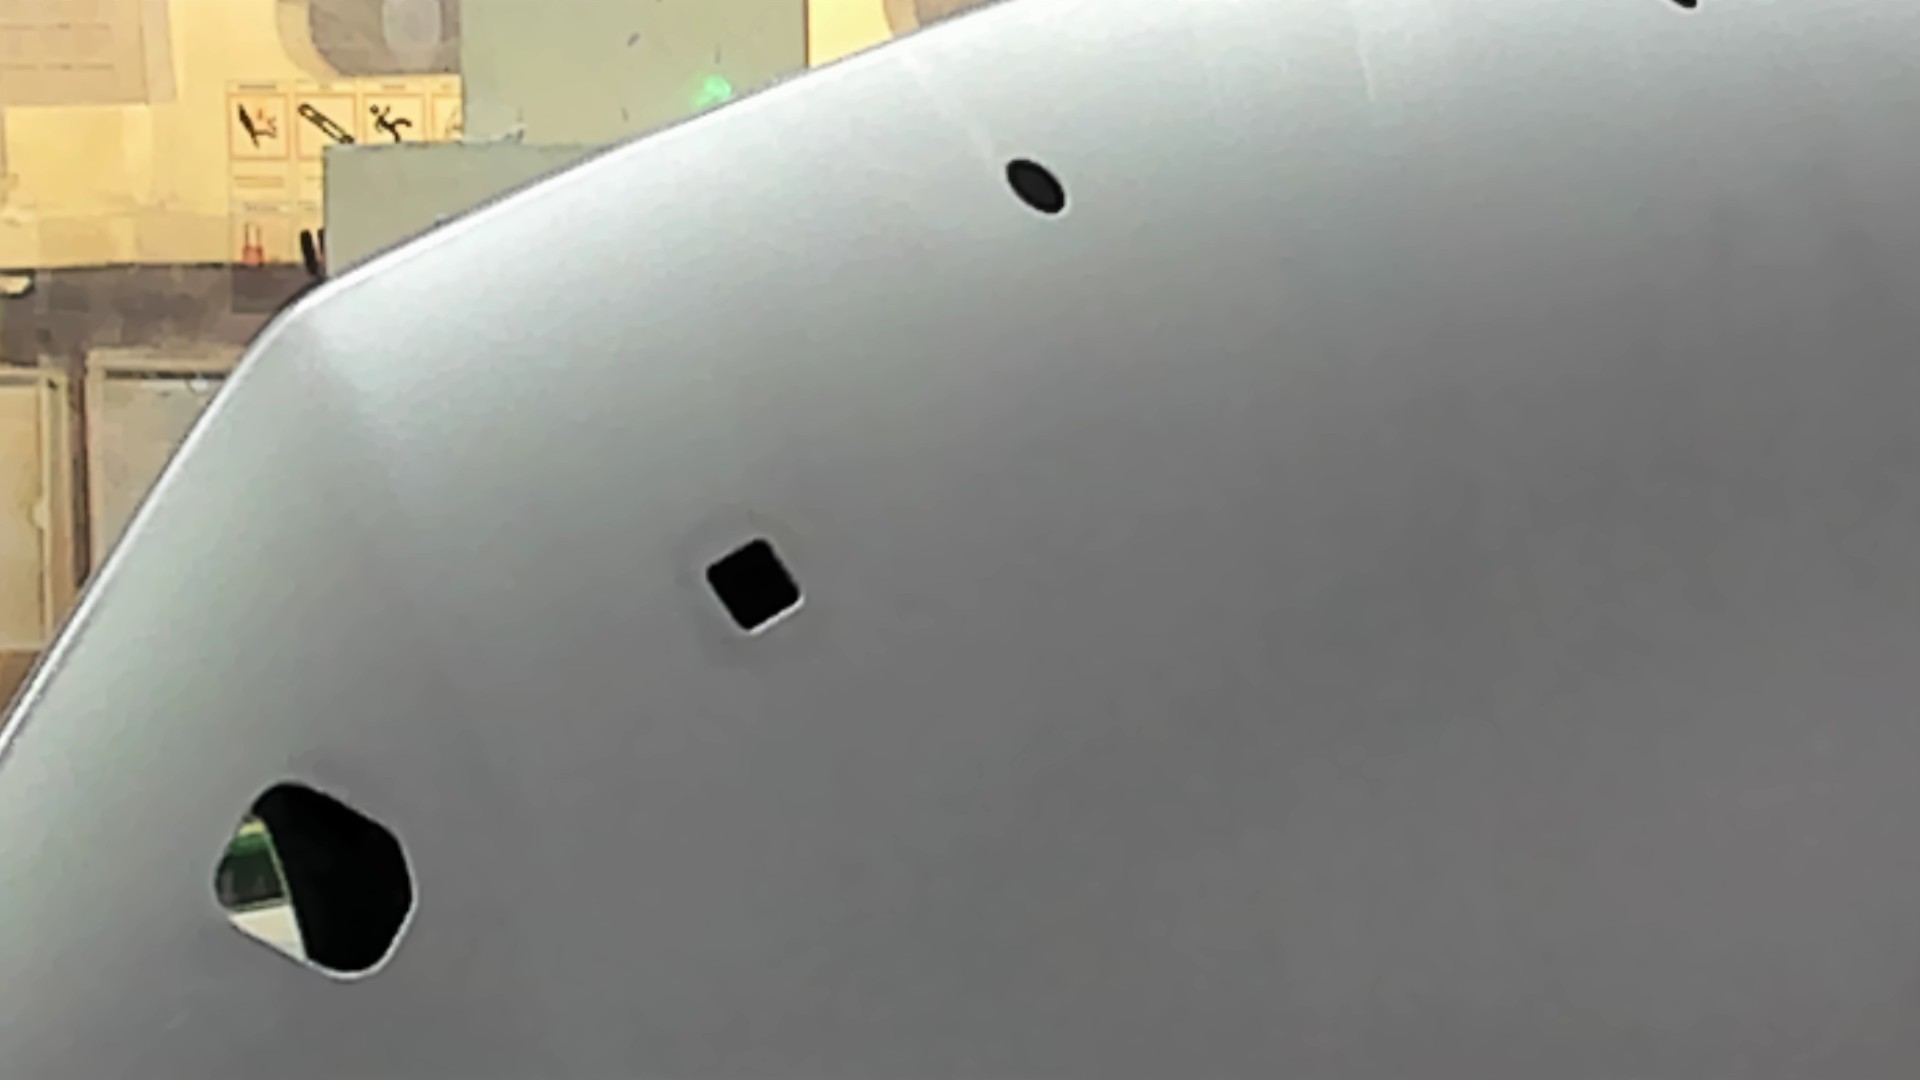chico: (996, 149, 1091, 231)
grande: (177, 764, 446, 996)
mediano: (684, 517, 827, 646)
